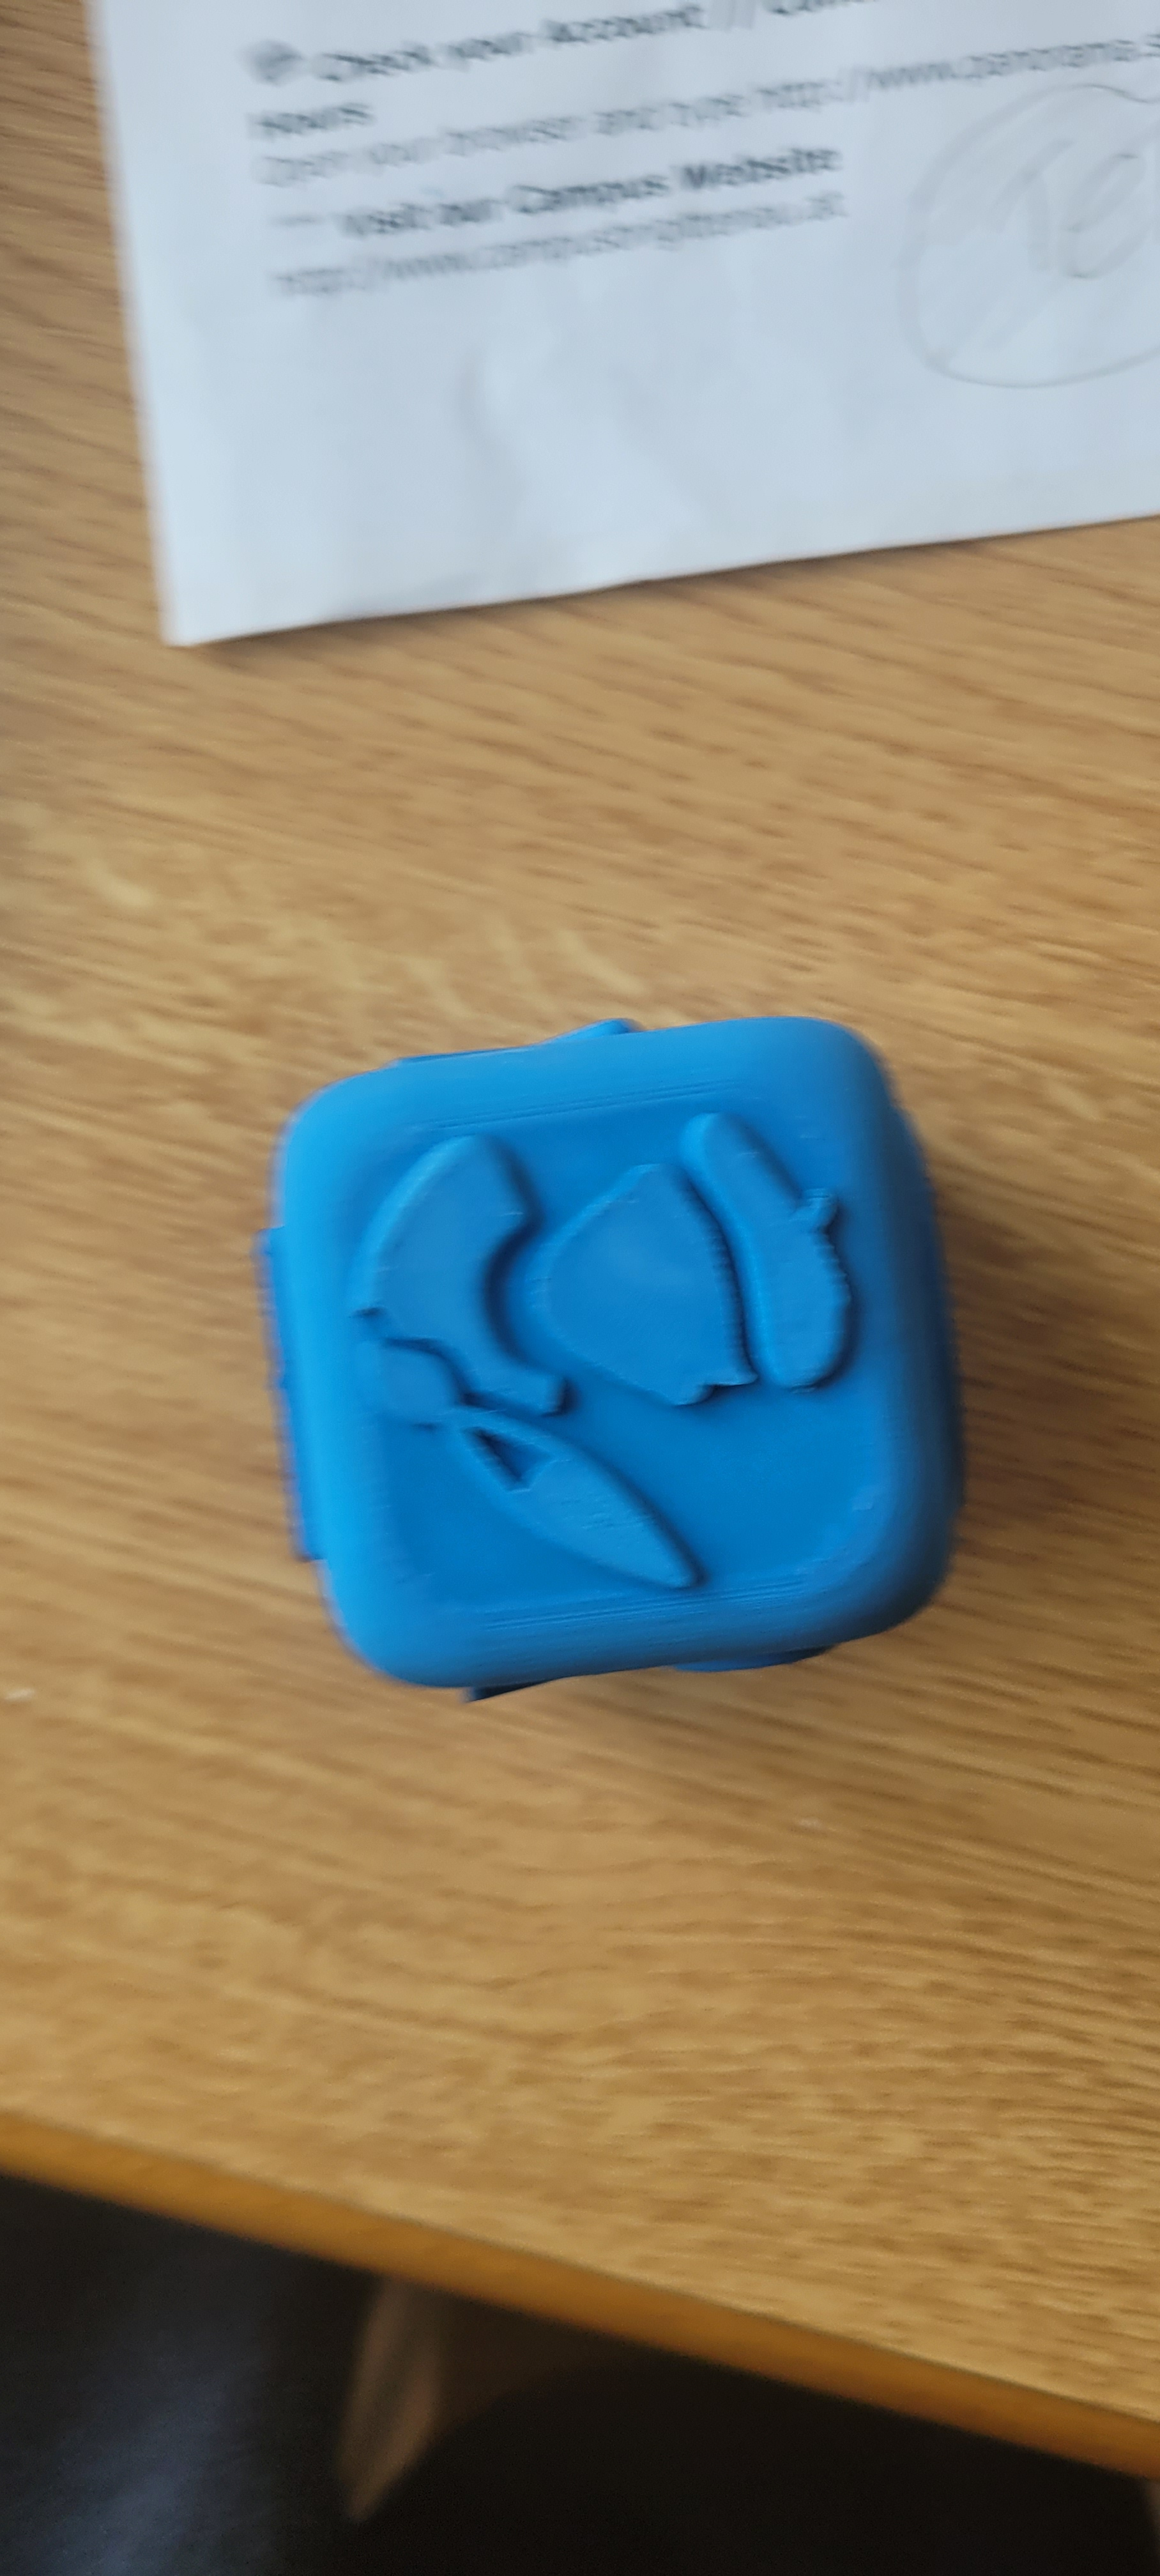Artist_Info: (251, 1063, 946, 1692)
